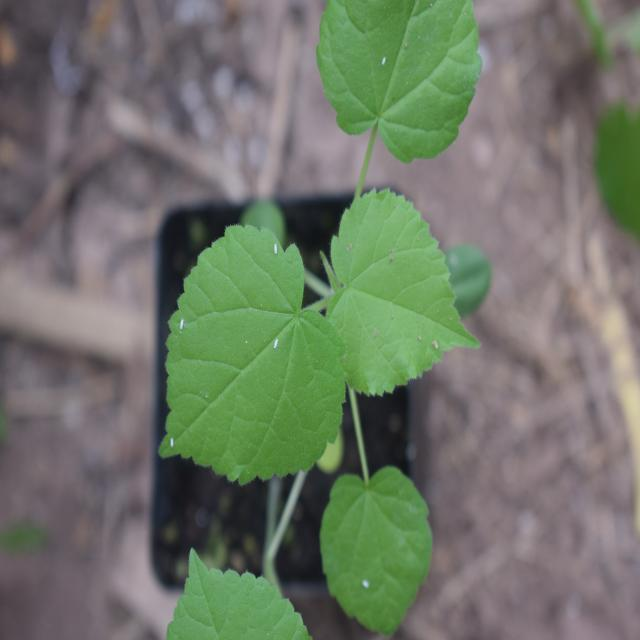abutilon theophrasti: (135, 18, 503, 599)
